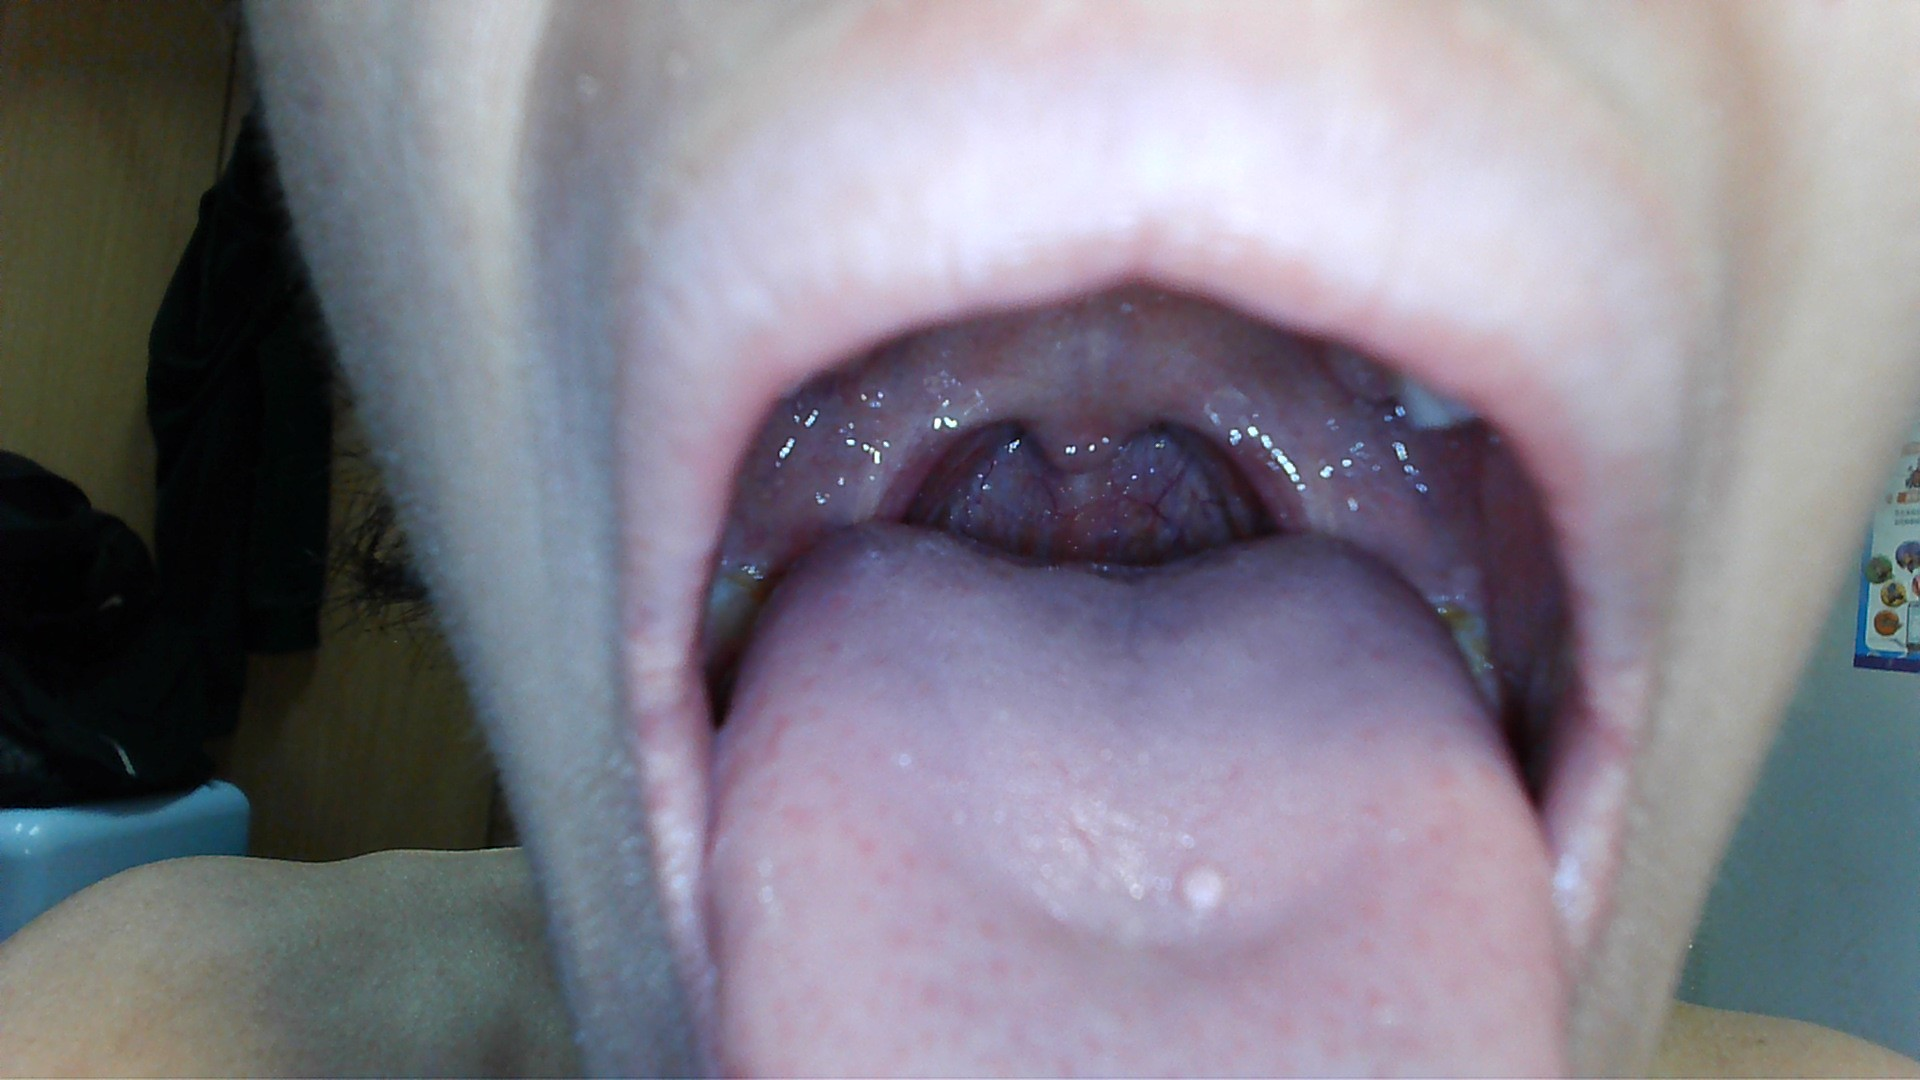throat: (1215, 411, 1323, 541), (855, 411, 967, 520)
